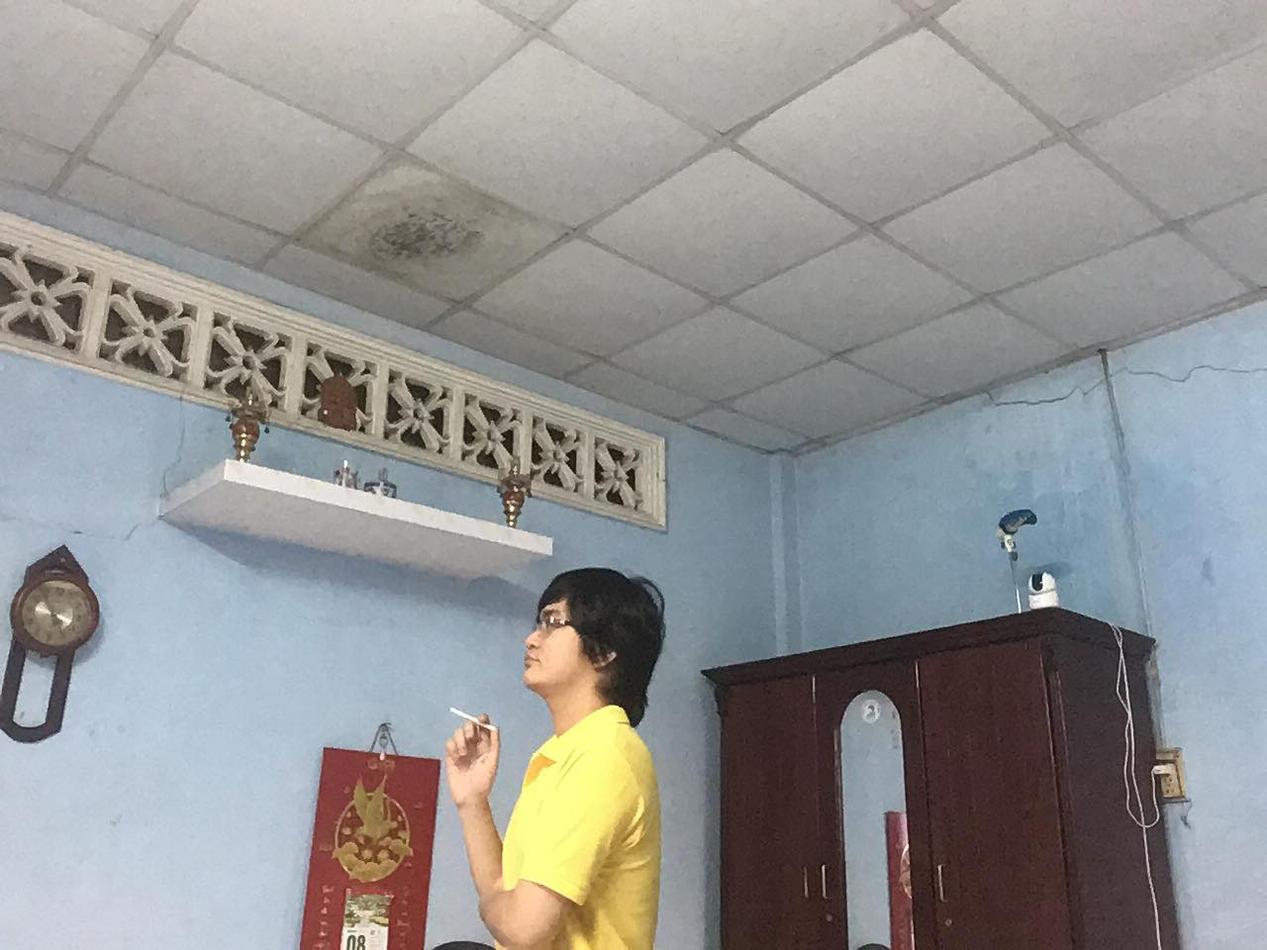cigarette: (447, 705, 478, 724)
person: (443, 564, 673, 949)
